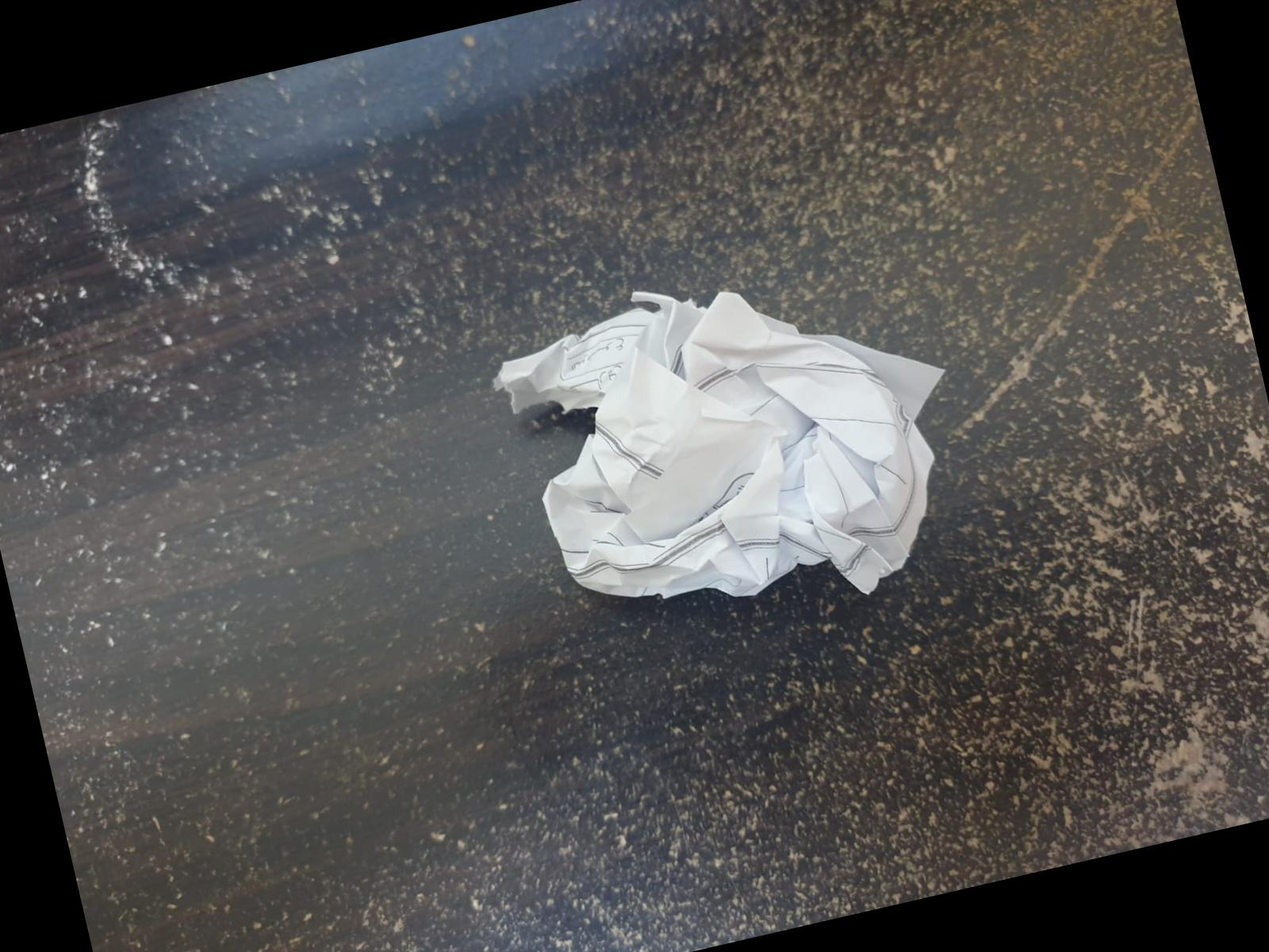Kertas: (503, 290, 969, 598)
